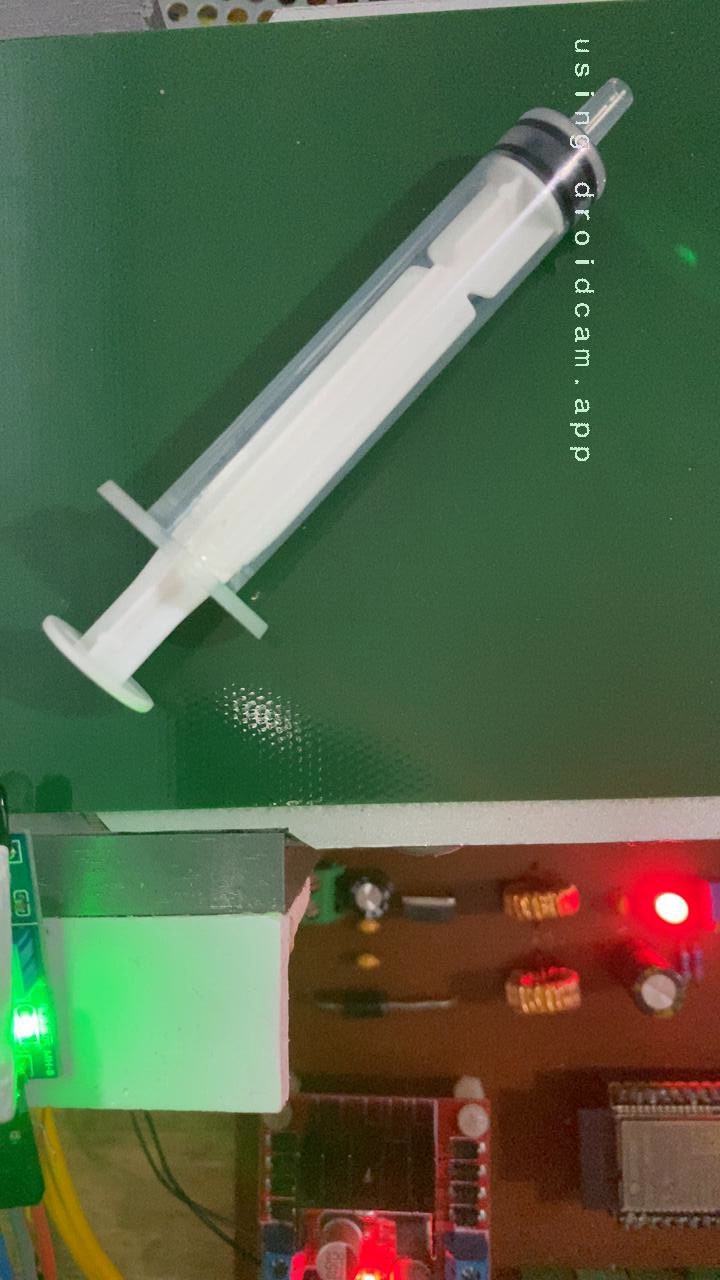syringe: (35, 71, 641, 708)
